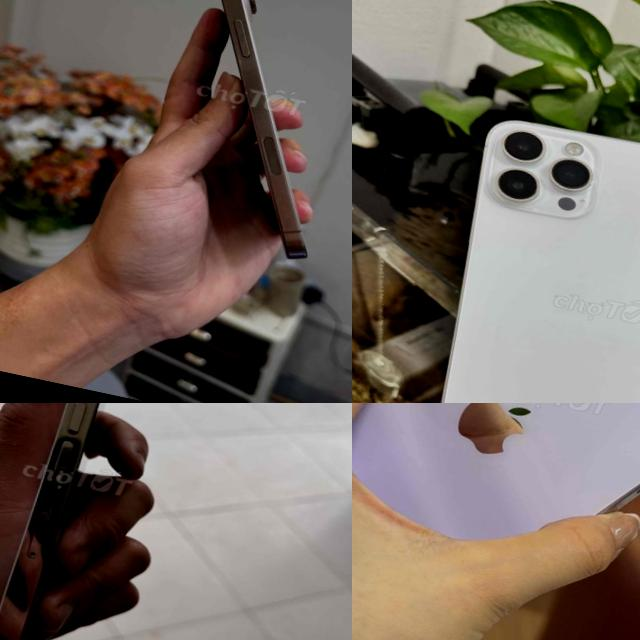scratch: (49, 472, 72, 501)
